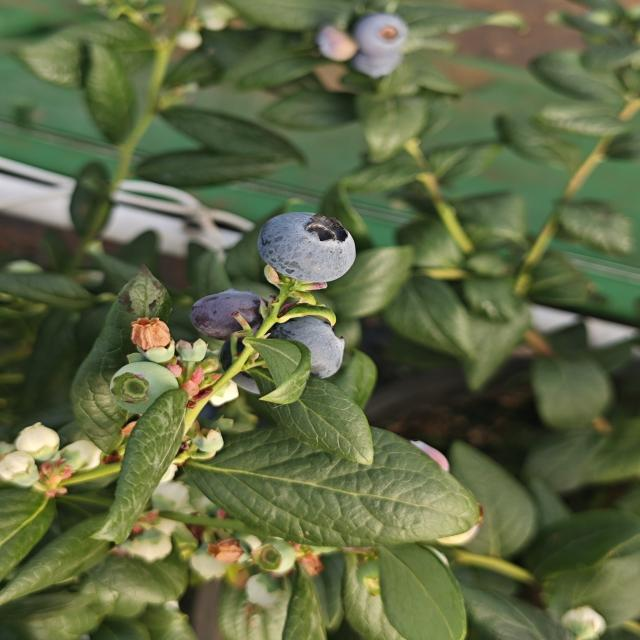ripe: (254, 210, 359, 286), (263, 313, 348, 381), (187, 288, 268, 343), (300, 214, 351, 246)
